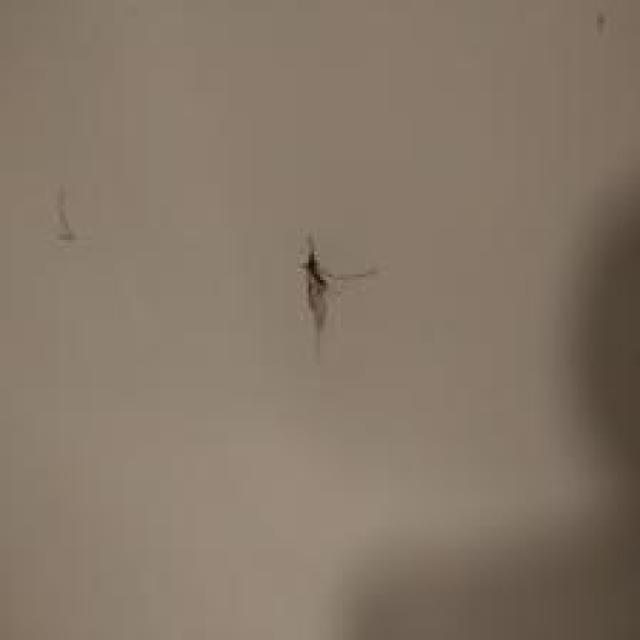Culex: (296, 231, 376, 360)
